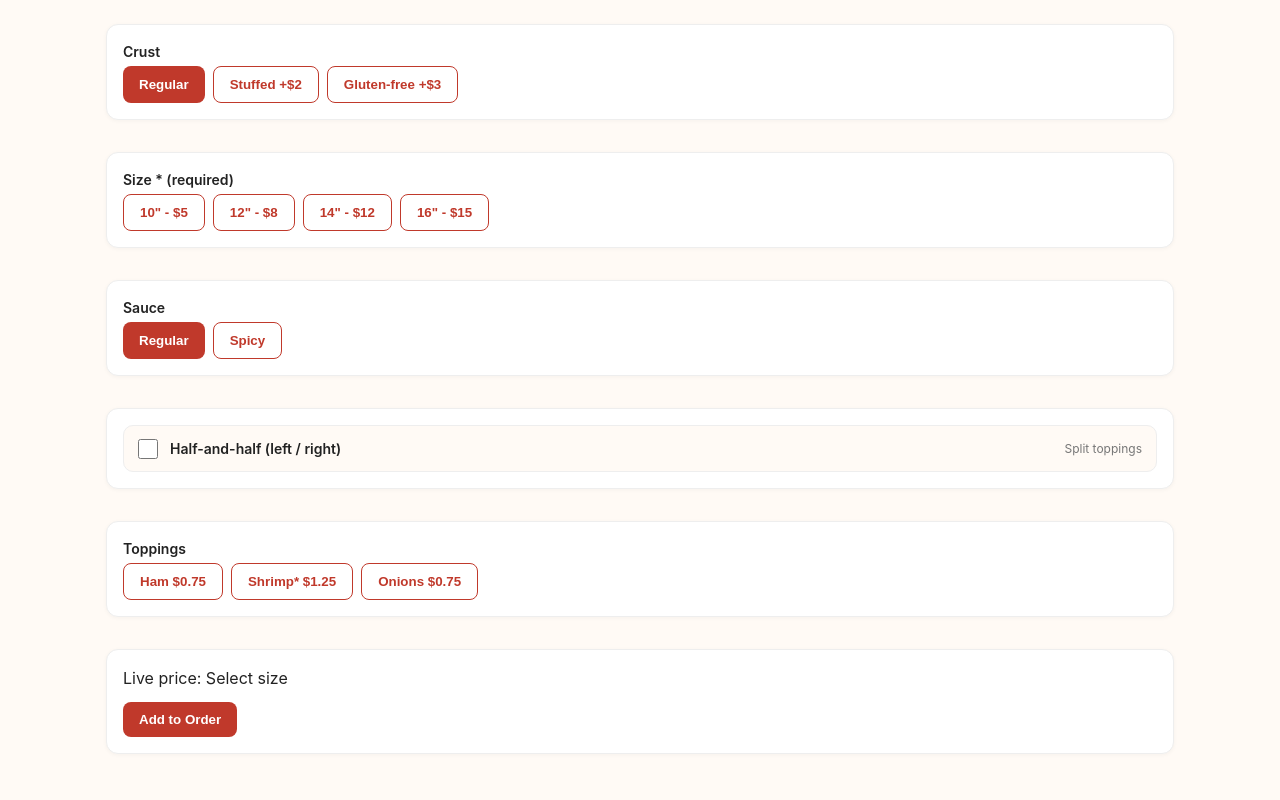
Test case: PizzaBuilder - TST-3 › FR-BUILD-5: Gluten-free crust disabled for 14" and 16", and resets to Regular when size changes
The width and height of the screenshot is (1280, 800).
Expected: the button "Gluten-free +$3" is enabled, [327,66,458,103]
Note: Select 14" - wrap in act and wait for postQuote effect to settle
Step 1. Click the button "14\" - $12" → (347, 212), box [303,194,392,231]
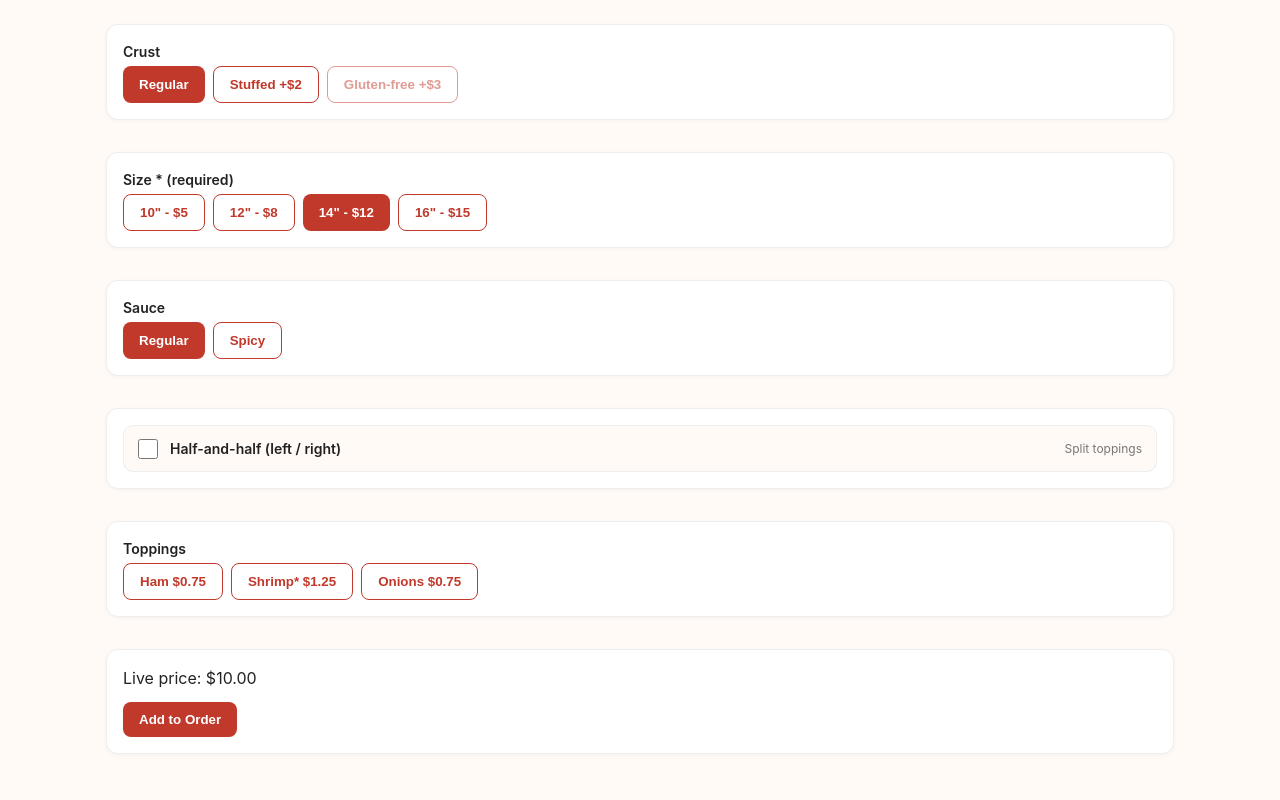
Expected: the button "Gluten-free +$3" is disabled, [327,66,458,103]
Note: Select 12" - should be enabled again
Step 2. Click the button "12\" - $8" → (254, 212), box [213,194,295,231]
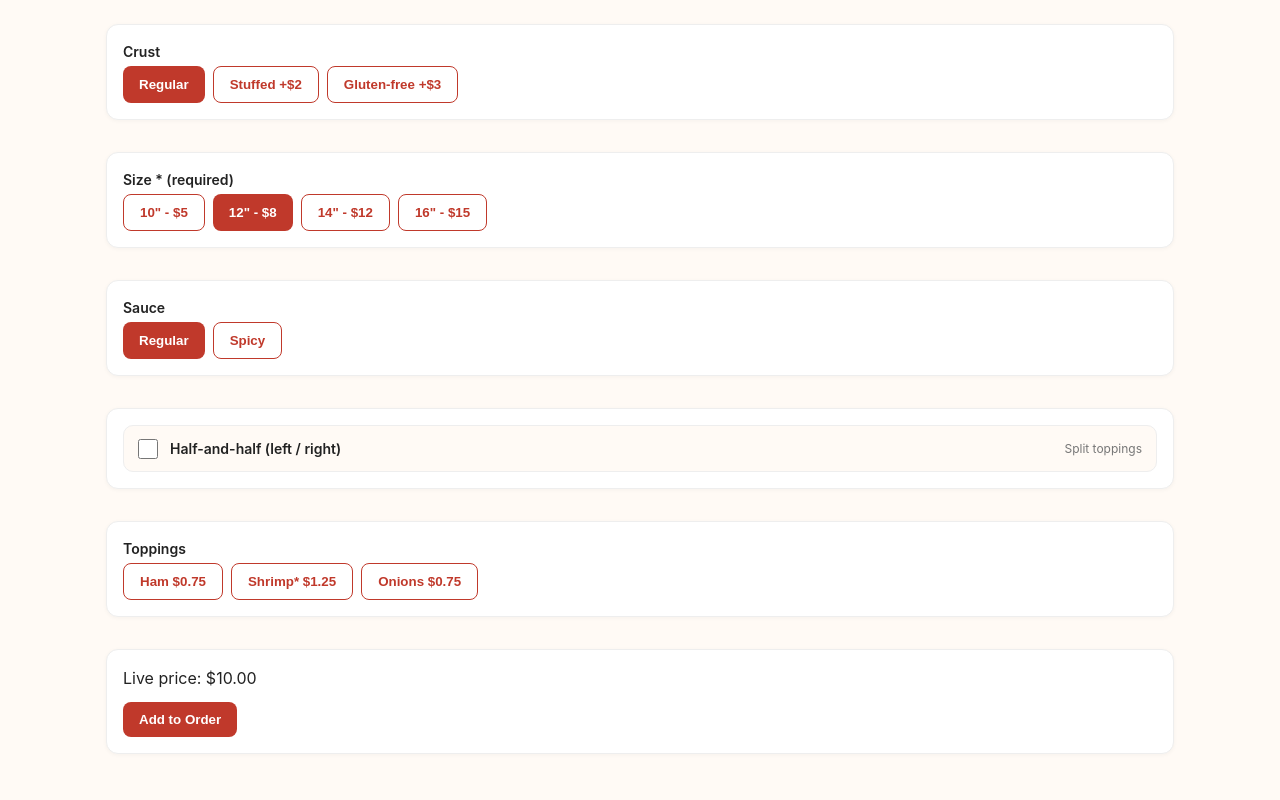
Expected: the button "Gluten-free +$3" is enabled, [327,66,458,103]
